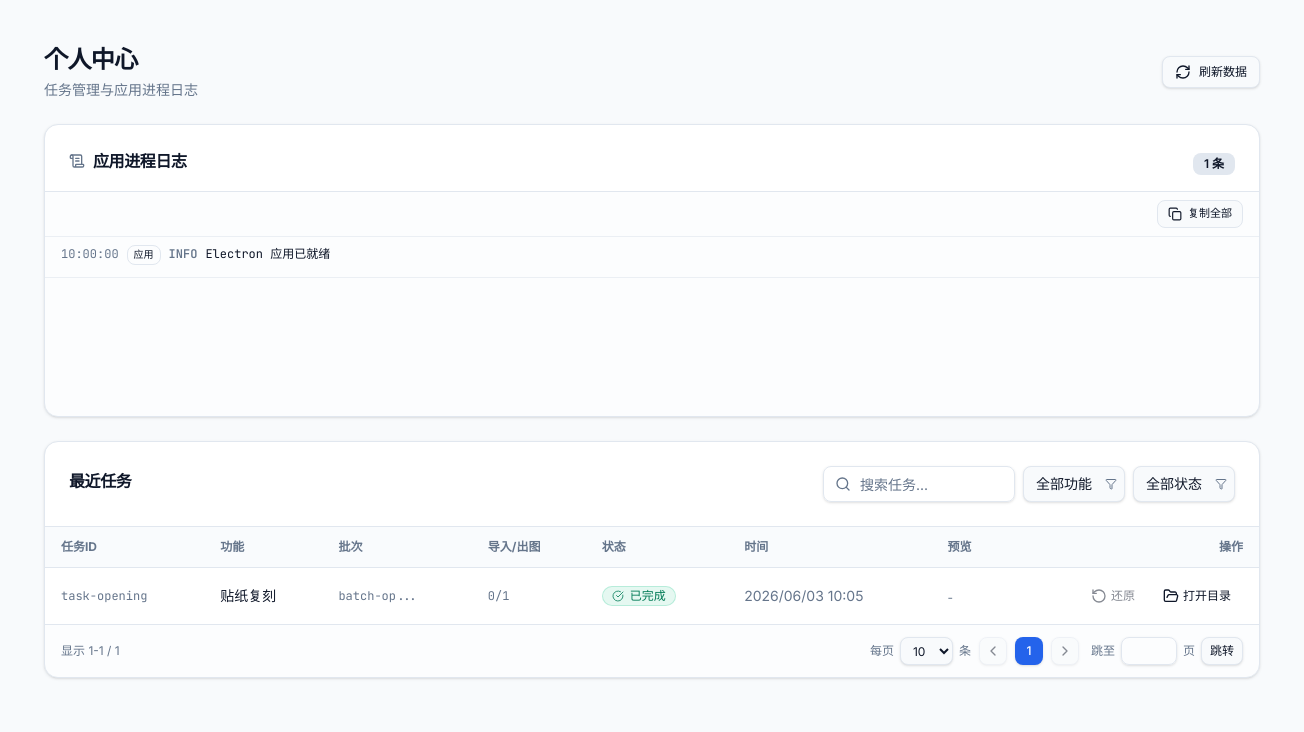
Test: Profile › clears opening directory state when closing the drawer during an open request
This screenshot has width=1304, height=732.
Click the text "贴纸复刻". click: (263, 596)
box: [204,568,322,624]
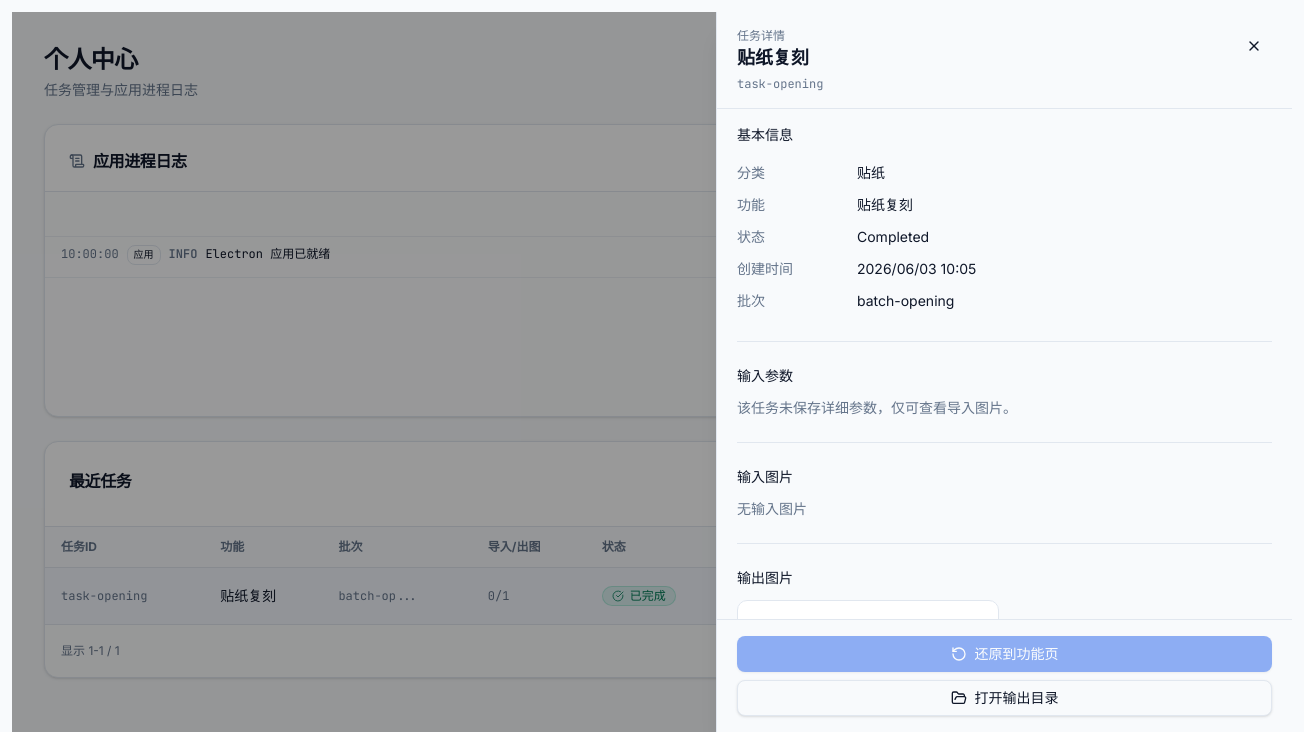
Click the button "打开输出目录". click: (1004, 698)
box: [737,680,1272,716]
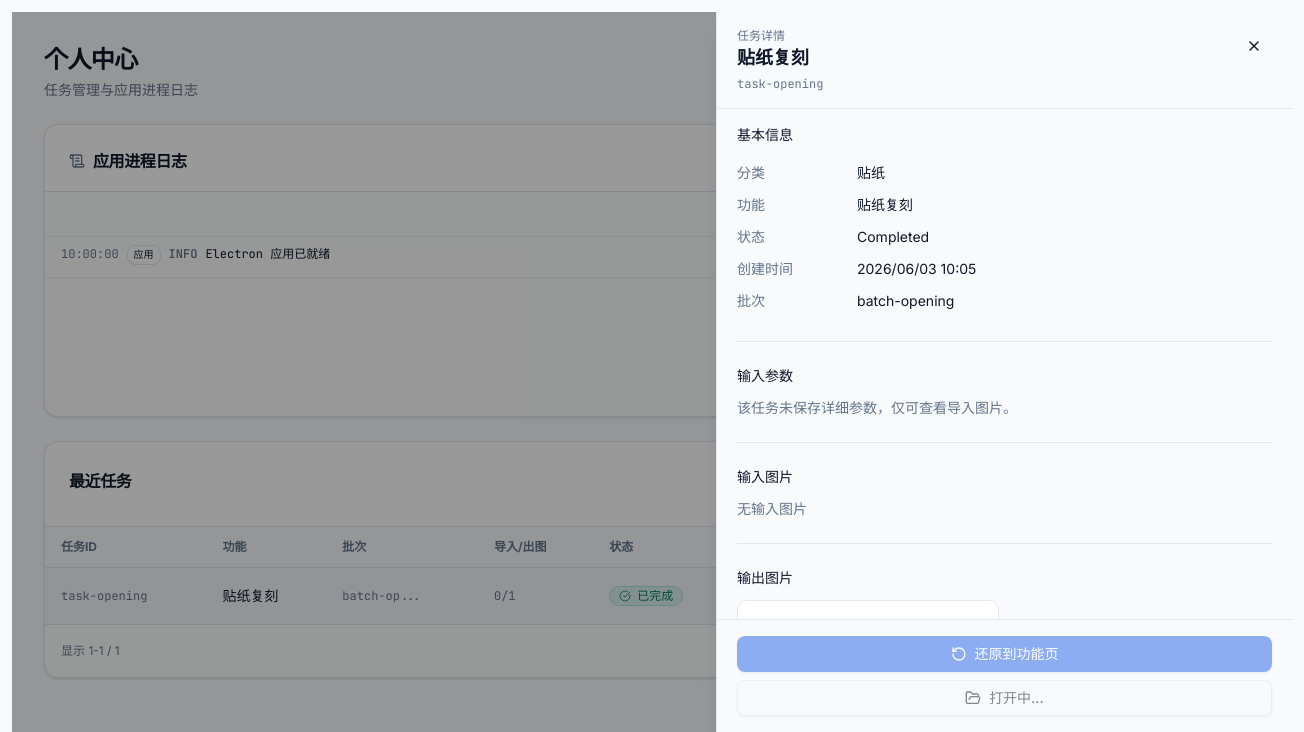
Expected: the button "打开中..." is shown, [737,680,1272,716]
Click the button named "关闭任务详情". click: (652, 372)
box: [12,12,1292,731]
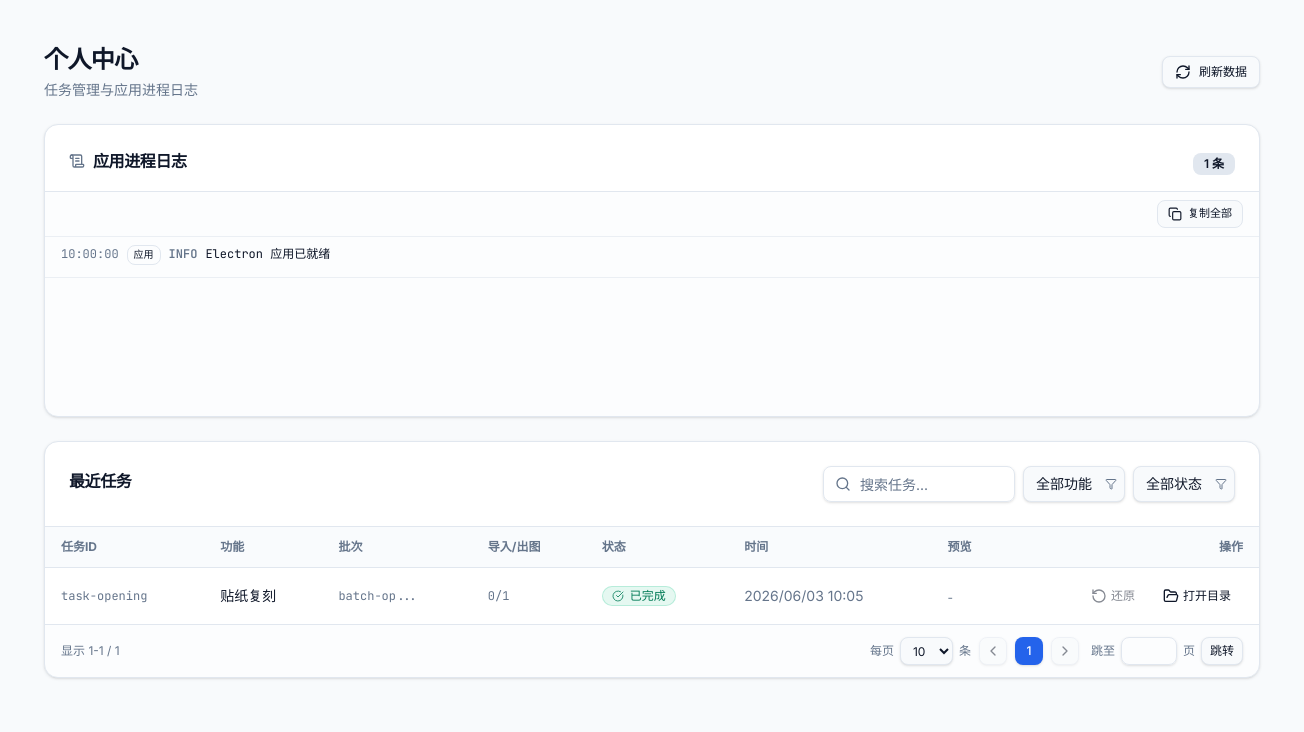
Expected: the text "打开中..." is gone
